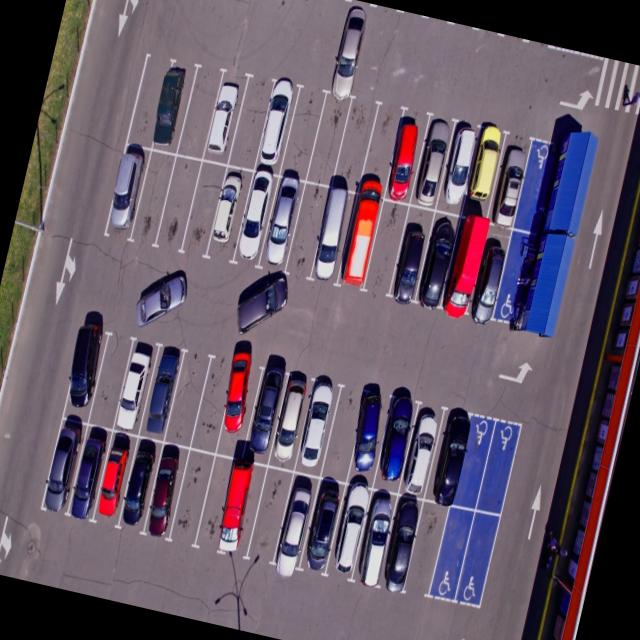car: (212, 455, 269, 562), (214, 354, 268, 459), (108, 337, 162, 438), (291, 374, 345, 475), (138, 340, 191, 442), (57, 320, 110, 422), (240, 364, 292, 466), (438, 212, 490, 314), (147, 56, 200, 156), (139, 444, 191, 544), (201, 68, 253, 168), (100, 142, 152, 242), (227, 170, 279, 268), (202, 164, 254, 262), (272, 469, 322, 570), (257, 174, 308, 273), (295, 474, 346, 573), (342, 388, 392, 488), (264, 370, 314, 470), (370, 394, 420, 494), (306, 185, 357, 283), (386, 202, 436, 301), (414, 208, 464, 307), (396, 399, 446, 497), (374, 492, 424, 590), (90, 428, 140, 526), (322, 482, 373, 578), (336, 190, 385, 288), (118, 434, 166, 534), (252, 79, 300, 177), (382, 108, 431, 204), (66, 422, 114, 518), (428, 409, 475, 507), (408, 115, 456, 210), (354, 486, 401, 583), (460, 126, 508, 220), (437, 120, 484, 213), (472, 224, 514, 324), (40, 420, 86, 510), (491, 134, 535, 228)
free: (242, 463, 297, 569), (180, 158, 232, 260), (187, 351, 238, 454), (316, 382, 368, 483), (153, 153, 205, 254), (162, 348, 214, 448), (225, 74, 277, 174), (85, 330, 136, 430), (166, 447, 216, 548), (128, 148, 178, 248), (175, 63, 225, 162), (282, 180, 332, 278), (193, 451, 240, 554), (360, 198, 410, 294), (454, 510, 504, 606), (278, 86, 328, 181), (428, 502, 476, 600), (404, 498, 452, 596), (476, 420, 524, 516), (358, 104, 406, 200), (450, 414, 496, 512), (305, 93, 352, 186), (330, 100, 376, 192), (127, 55, 170, 147)
